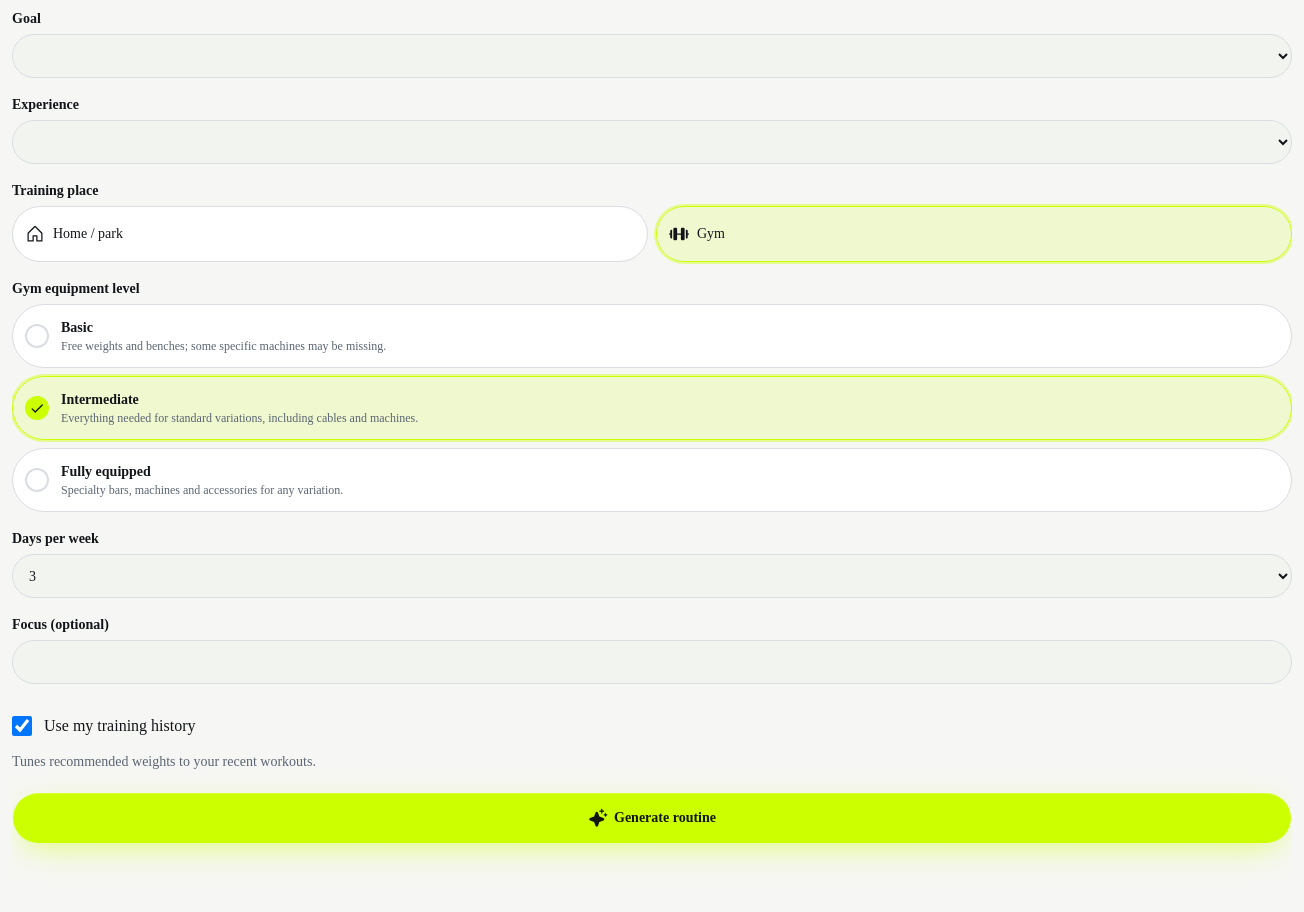
Test case: GenerateForm › swaps gym levels for the equipment picker at a home or park
Click the button "Home / park". click: (88, 234)
box: 12,206 -> 648,262
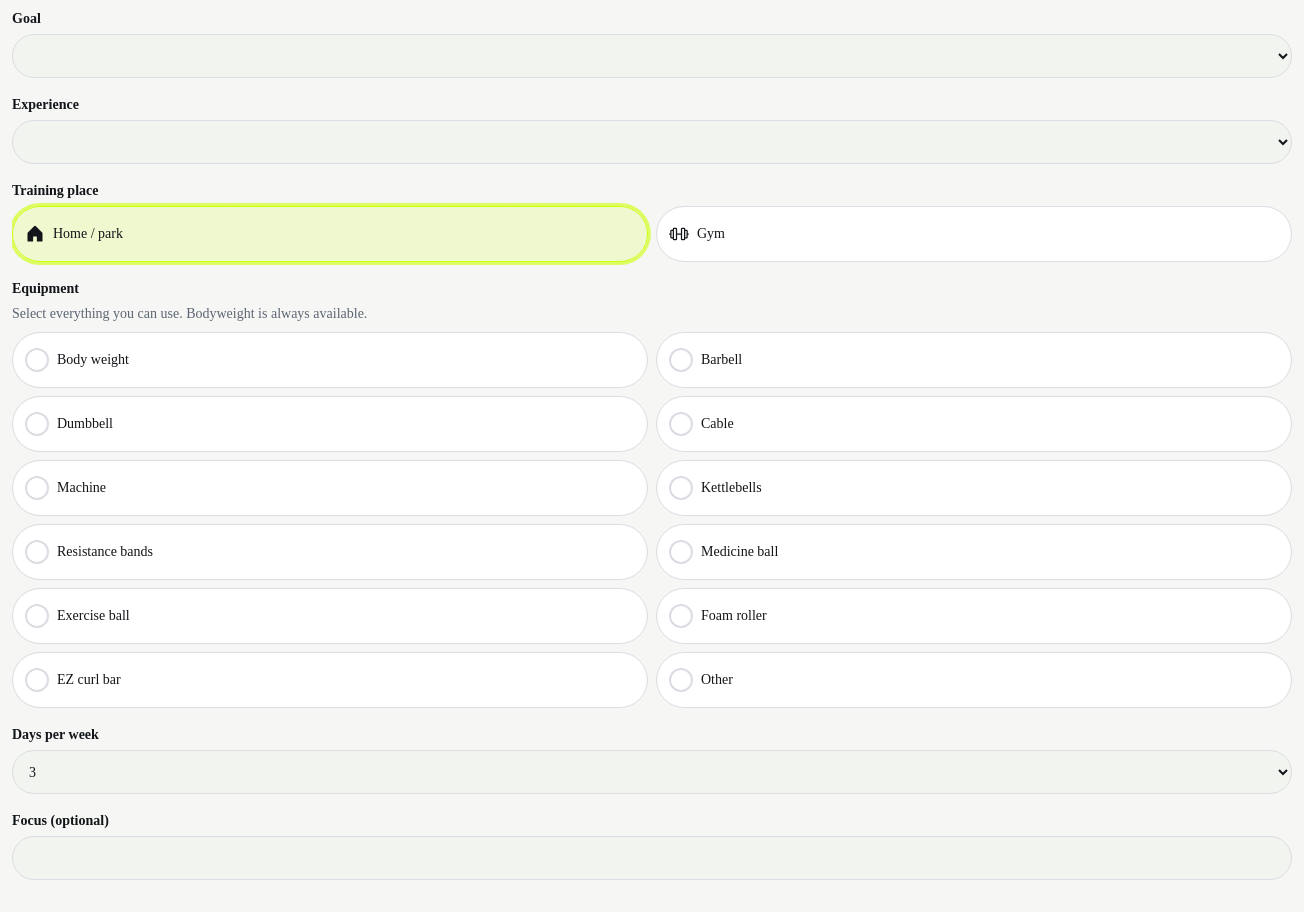
Expected: the button "Dumbbell" is shown, 12,396 -> 648,452
Expected: the button "Basic" is gone
